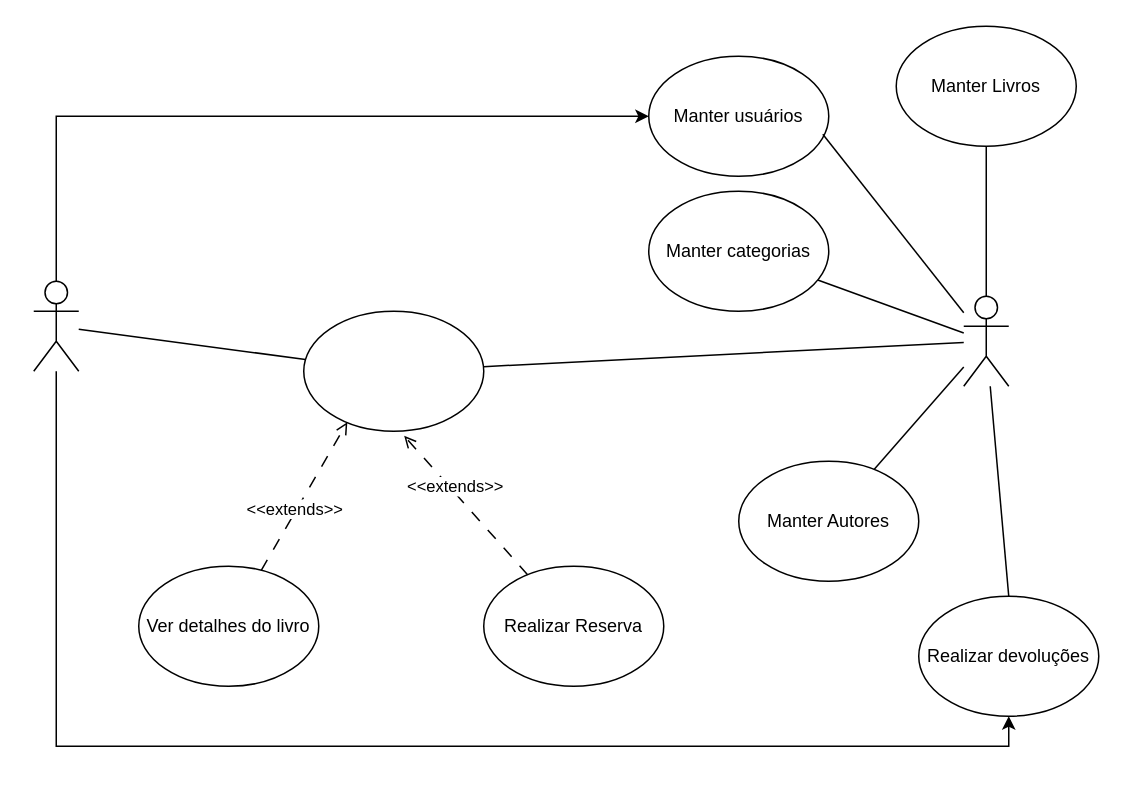
Some shapes in this 1125 by 785 pixel diagram are drawn without their labels. The shapes that lost their labels are listed below. From the top down, each one's centre as x and y in pixels, then its label:
point (55, 325): Usuário
point (985, 340): Funcionário
point (393, 370): Consulta de livros
